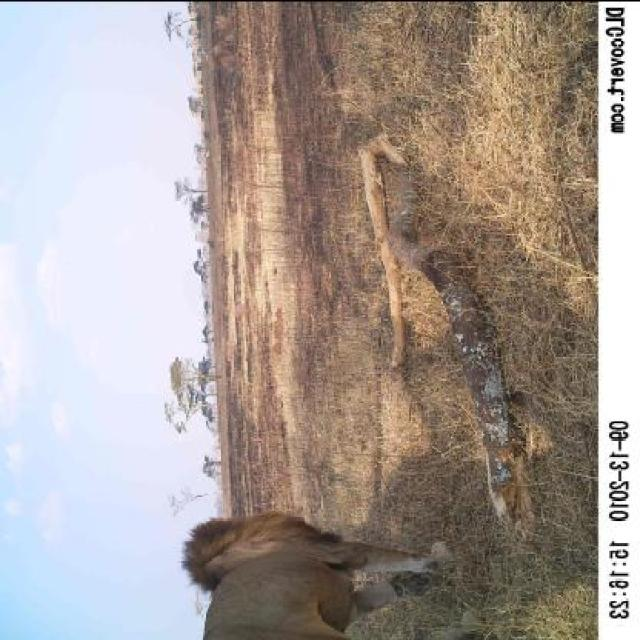Lion: (160, 496, 472, 638)
